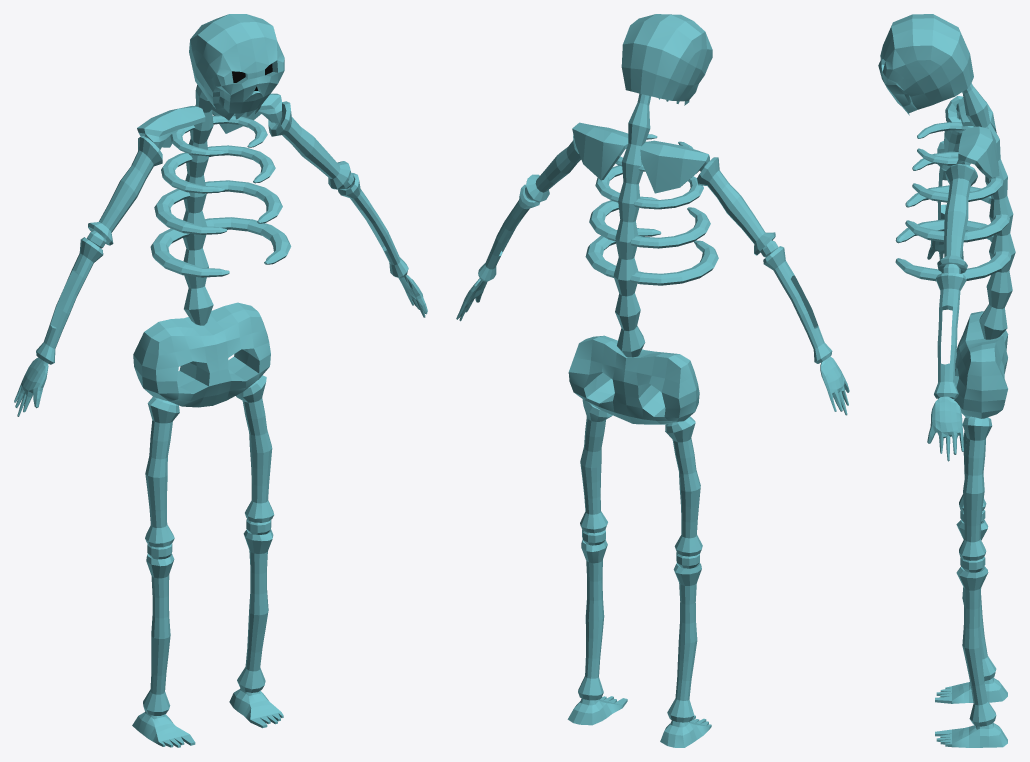
File: esqueleto n2 vertical.fbx
The picture shows the model from 3 angles, left to right: view 1: azimuth 30°, elevation 25°; view 2: azimuth 150°, elevation 25°; view 3: azimuth 270°, elevation 25°; orthographic projection. The views are drawn at different scales.
Parts seen in each view (by area): view 1: esqueleto; view 2: esqueleto; view 3: esqueleto.
Part boxes in pixels (bbox=[...]): esqueleto: bbox=[14, 14, 427, 747]; esqueleto: bbox=[456, 14, 849, 747]; esqueleto: bbox=[878, 14, 1015, 747].
Size of the model in its own units: 35.58 by 60.27 by 10.73.
